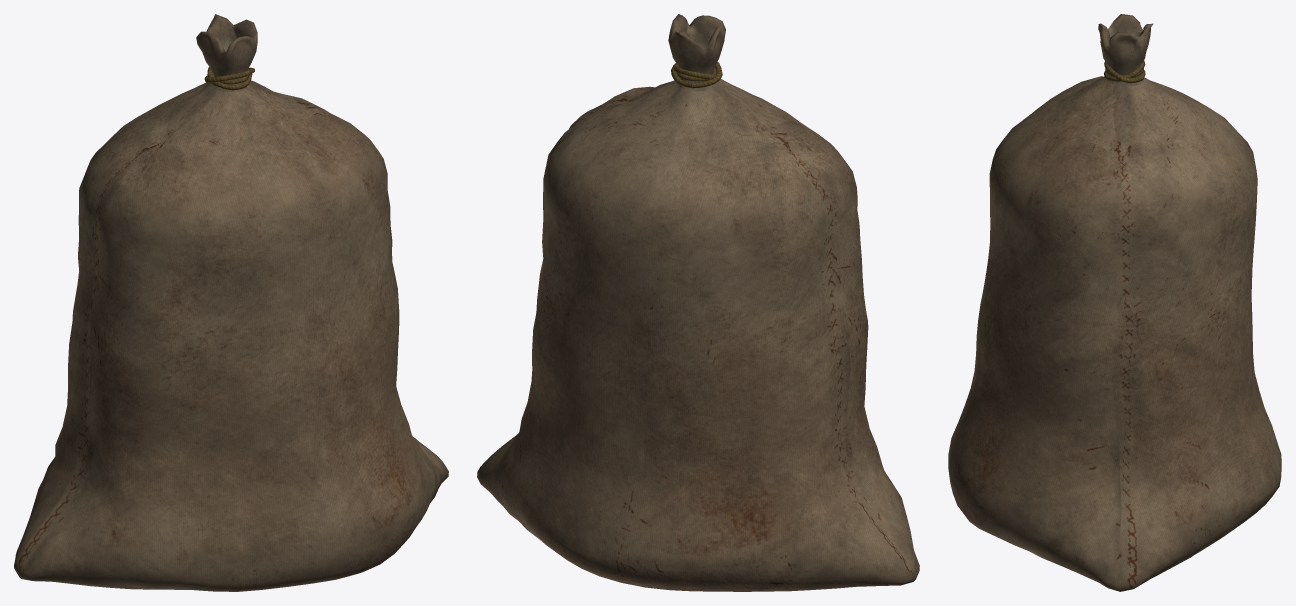
3 renders of one model, left to right at view 1: azimuth 30°, elevation 25°; view 2: azimuth 150°, elevation 25°; view 3: azimuth 270°, elevation 25°, orthographic. The views are drawn at different scales.
Visible parts, largest first — view 1: Closed_Burlap_Sack1; view 2: Closed_Burlap_Sack1; view 3: Closed_Burlap_Sack1.
Part boxes in pixels (x1,y1,x2,y2): Closed_Burlap_Sack1: [14, 14, 448, 591]; Closed_Burlap_Sack1: [477, 14, 919, 591]; Closed_Burlap_Sack1: [948, 14, 1281, 591].
Size of the model in its own units: 0.445 by 0.5082 by 0.3198.
1 material, 1 textured.
